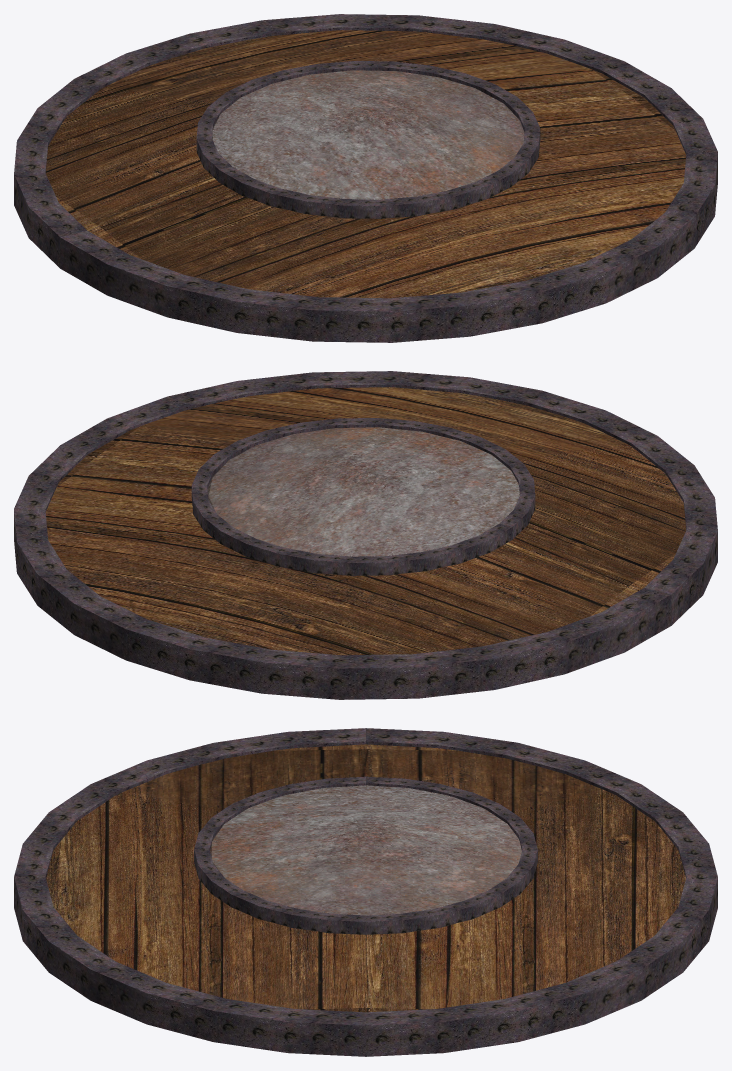
The model's file is Shield.FBX.
The picture shows the model from 3 angles, top to bottom: view 1: azimuth 30°, elevation 25°; view 2: azimuth 150°, elevation 25°; view 3: azimuth 270°, elevation 25°; orthographic projection.
Parts seen in each view (by area): view 1: Cylinder002; view 2: Cylinder002; view 3: Cylinder002.
Part boxes in pixels (x1=…): Cylinder002: x1=14, y1=14, x2=717, y2=342; Cylinder002: x1=14, y1=371, x2=717, y2=699; Cylinder002: x1=14, y1=728, x2=717, y2=1056.
Size of the model in its own units: 236 by 28.6 by 236.
Materials: 3 (3 with a texture image).
